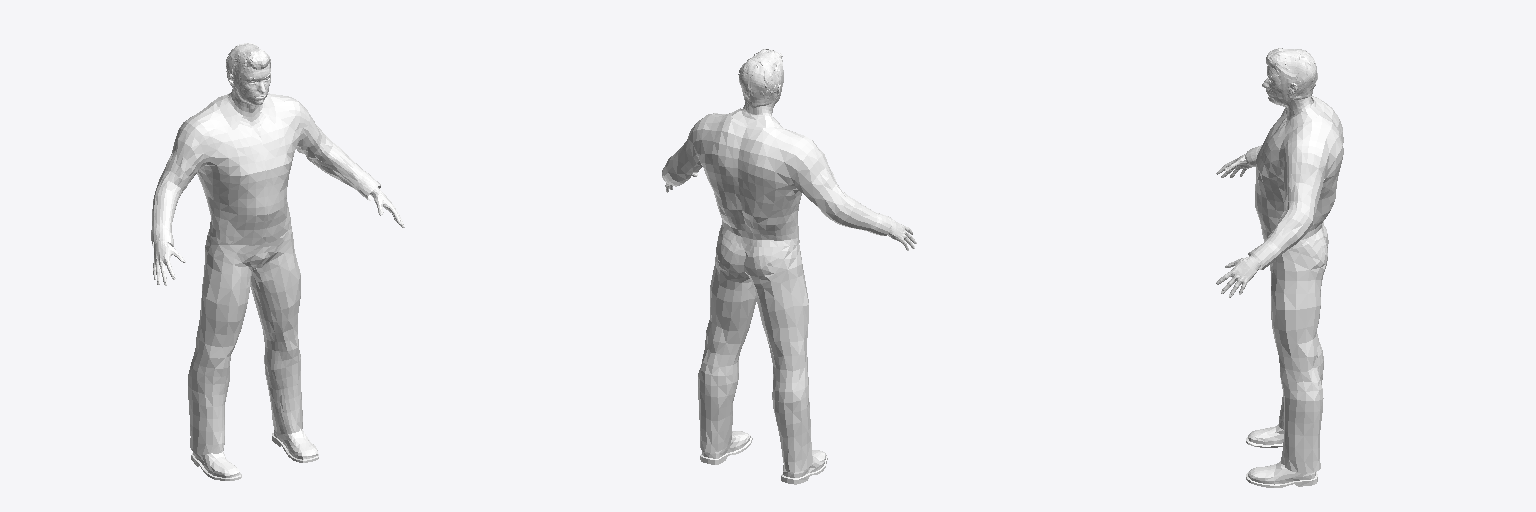
File: Allan-V1.obj
3 renders of one model, left to right at view 1: azimuth 30°, elevation 25°; view 2: azimuth 150°, elevation 25°; view 3: azimuth 270°, elevation 25°, orthographic.
Parts seen in each view (by area): view 1: shirt01.obj, jeans01.obj, base.obj, shoes01_lres.obj, mhair02.obj; view 2: jeans01.obj, shirt01.obj, mhair02.obj, shoes01_lres.obj, base.obj; view 3: shirt01.obj, jeans01.obj, base.obj, shoes01_lres.obj, mhair02.obj.
Boxes of the visible parts, x1=… form: shirt01.obj: x1=151, y1=93, x2=380, y2=247; jeans01.obj: x1=188, y1=226, x2=302, y2=454; base.obj: x1=153, y1=63, x2=404, y2=285; shoes01_lres.obj: x1=191, y1=429, x2=318, y2=480; mhair02.obj: x1=226, y1=43, x2=270, y2=90; jeans01.obj: x1=698, y1=226, x2=812, y2=472; shirt01.obj: x1=662, y1=108, x2=891, y2=246; mhair02.obj: x1=738, y1=49, x2=782, y2=107; shoes01_lres.obj: x1=700, y1=431, x2=827, y2=484; base.obj: x1=665, y1=70, x2=916, y2=250; shirt01.obj: x1=1245, y1=96, x2=1343, y2=269; jeans01.obj: x1=1270, y1=226, x2=1328, y2=473; base.obj: x1=1216, y1=66, x2=1312, y2=297; shoes01_lres.obj: x1=1246, y1=424, x2=1317, y2=487; mhair02.obj: x1=1266, y1=48, x2=1317, y2=99.
Bounding box in the file's own units: 11.69 × 18.71 × 5.28.